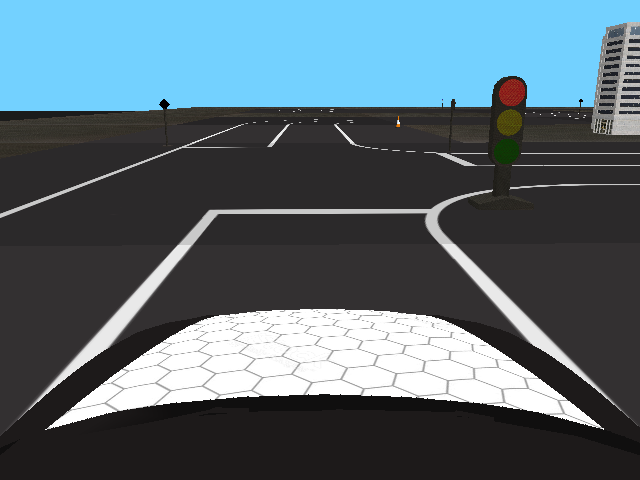red_light: (489, 75, 528, 165)
